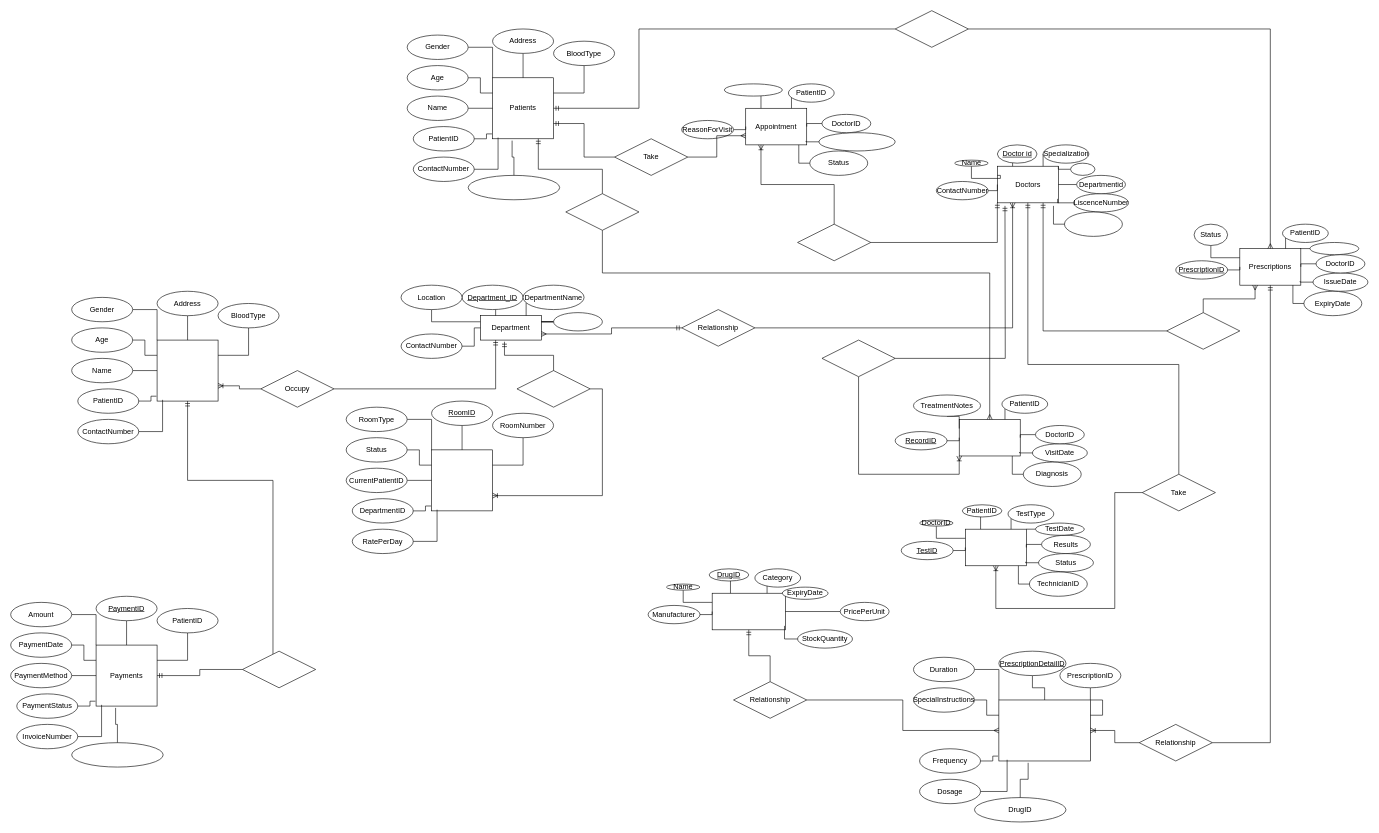
Image size: 1379x833. Some labels were removed from this diagram. The shapes that lost their labels are listed below. From the top down, each one's centre as x and y in pixels, then its label:
the point at 931,28: IsProvidedBy
the point at 753,89: AppointmentID
the point at 856,141: AppointmentDateTime
the point at 514,187: AttriRegistrationDatebute
the point at 1082,169: Email
the point at 602,211: Has
the point at 1093,223: YearsOfExperience
the point at 834,242: Give
the point at 1334,248: Instructions
the point at 577,321: HeadquarterID
the point at 1203,330: Provide
the point at 187,370: Staff
the point at 858,358: Stores
the point at 553,388: Contain
the point at 989,437: MedicalRecords
the point at 462,480: Room
the point at 995,547: TestExamination
the point at 748,611: PharmacyInventary
the point at 279,669: Recieve
the point at 1044,730: PrescriptionDetails
the point at 117,754: BillingStaffID
